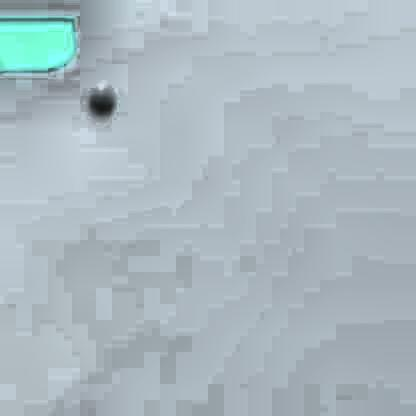golfball: (86, 82, 111, 112)
